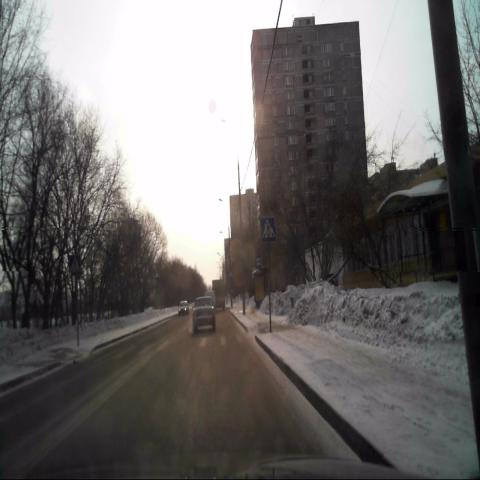5_19_1: (260, 216, 274, 240), (70, 255, 80, 274)
